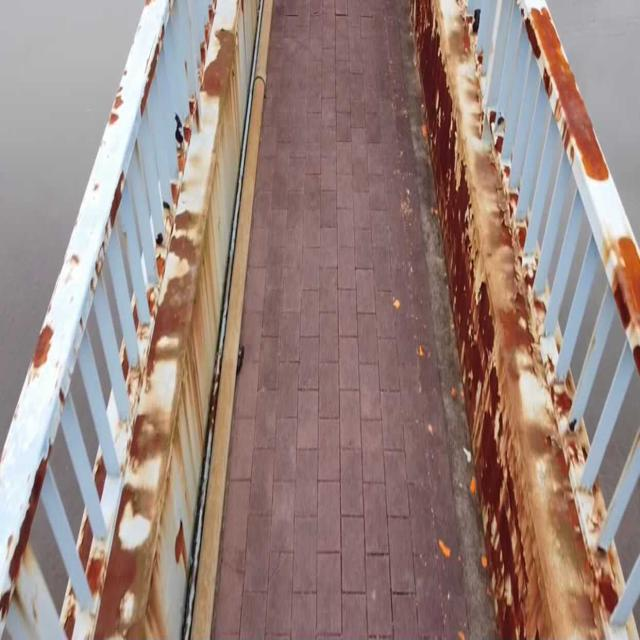corrosion: (401, 35, 637, 640), (76, 29, 264, 638)
